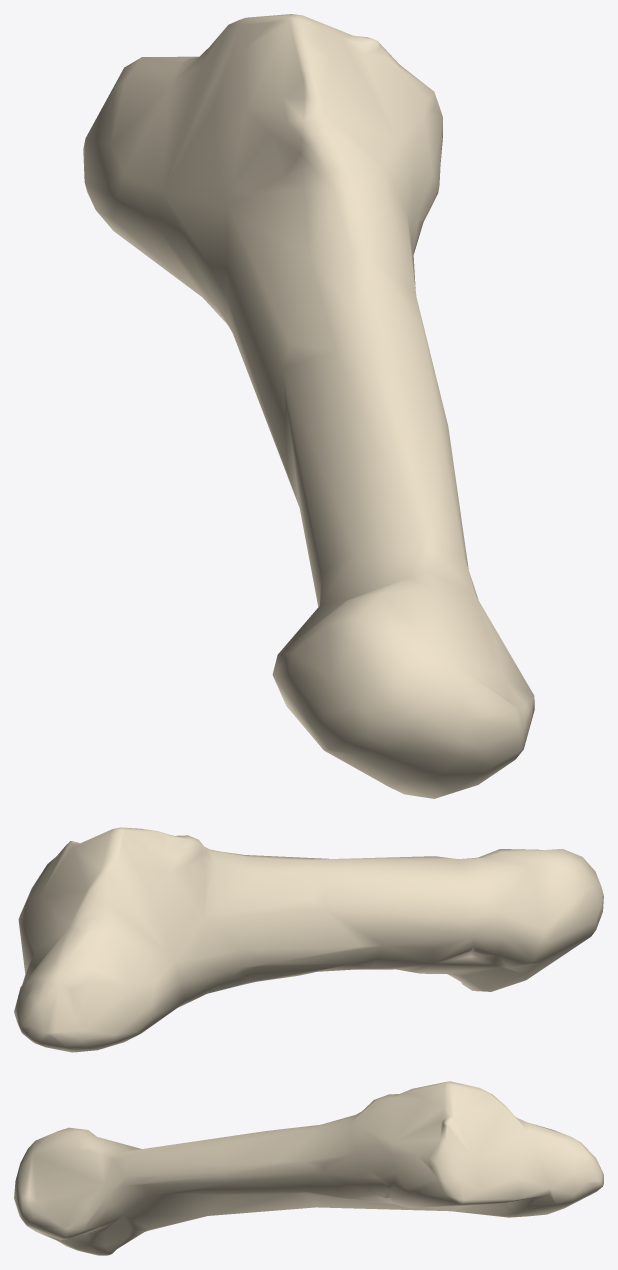
Rendered from fifth-metatarsal-bone-r.glb.
3 renders of one model, top to bottom at view 1: azimuth 30°, elevation 25°; view 2: azimuth 150°, elevation 25°; view 3: azimuth 270°, elevation 25°, orthographic. The views are drawn at different scales.
Parts seen in each view (by area): view 1: Fifth metatarsal bone.r; view 2: Fifth metatarsal bone.r; view 3: Fifth metatarsal bone.r.
Part boxes in pixels (<box>): Fifth metatarsal bone.r: <box>83,14,534,798</box>; Fifth metatarsal bone.r: <box>14,827,603,1052</box>; Fifth metatarsal bone.r: <box>14,1081,603,1255</box>.
Bounding box in the file's own units: 0.037 × 0.0312 × 0.0737.
